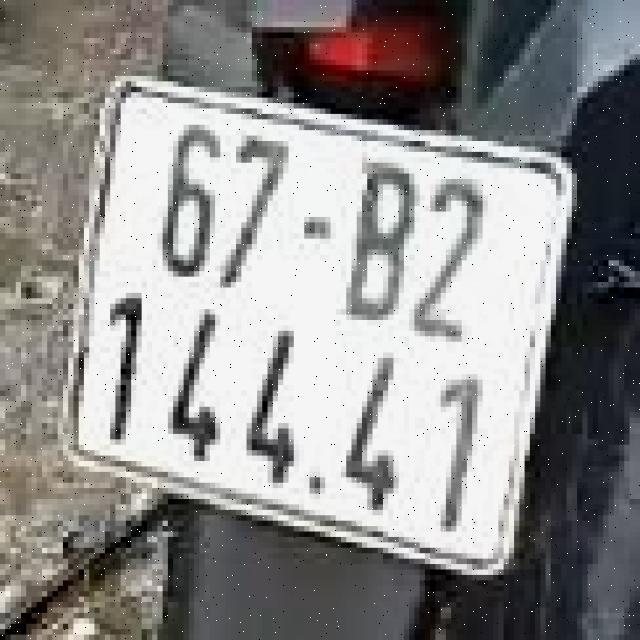1: (411, 362, 492, 543), (88, 285, 162, 453)
2: (403, 166, 500, 357)
4: (330, 341, 423, 528), (233, 314, 317, 500), (156, 299, 243, 475)
6: (148, 116, 232, 289)
7: (210, 124, 297, 307)
B: (330, 149, 429, 337)
